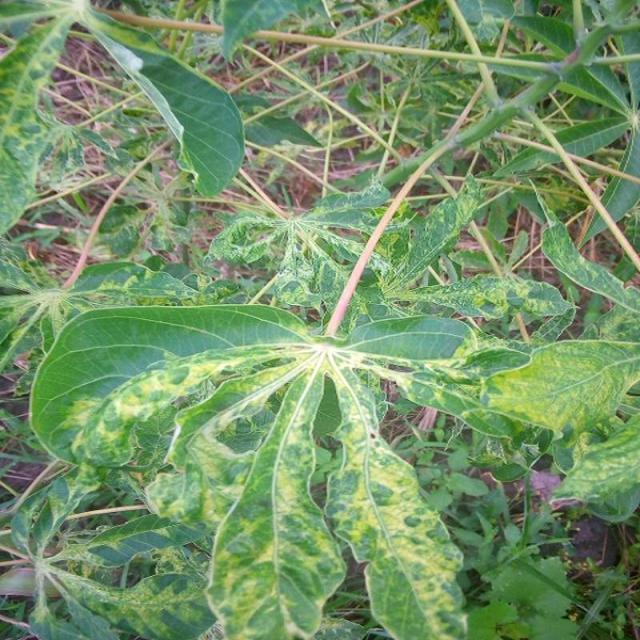cassava leaf: (1, 2, 638, 638), (28, 302, 315, 471)
